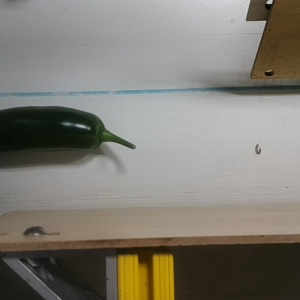Cut Point: (80, 111, 112, 151)
